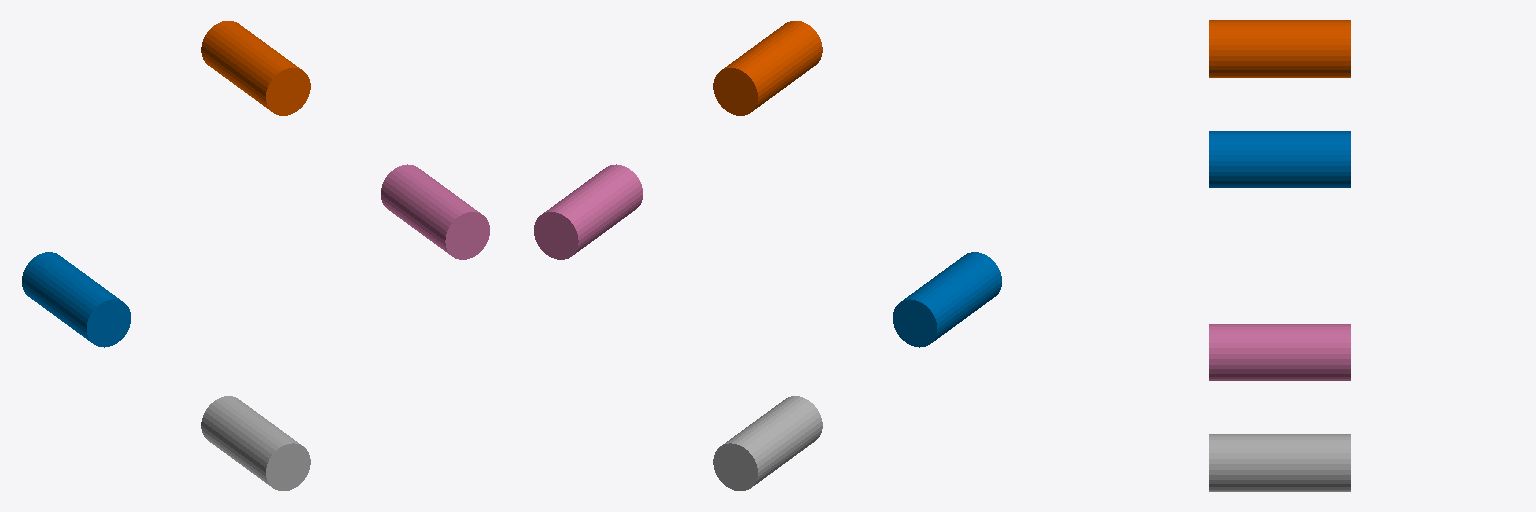
The robot description file, URDF, robot "ur5":
<?xml version="1.0" ?>
<!-- =================================================================================== -->
<!-- |    This document was autogenerated by xacro from ur.urdf.xacro                  | -->
<!-- |    EDITING THIS FILE BY HAND IS NOT RECOMMENDED                                 | -->
<!-- =================================================================================== -->
<robot name="ur5">
  <link name="base_link">
    <inertial>
      <mass value="0.0"/>
      <origin rpy="0 0 0" xyz="0 0 0"/>
      <inertia ixx="0.0" ixy="0.0" ixz="0.0" iyy="0.0" iyz="0.0" izz="0.0"/>
    </inertial>
  </link>
  <link name="base_link_inertia">
    <visual>
      <origin rpy="0 0 3.141592653589793" xyz="0 0 0"/>
      <geometry>
        <mesh filename="meshes/ur5/visual/base.obj"/>
      </geometry>
      <material name="LightGrey">
        <color rgba="0.7 0.7 0.7 0.7"/>
      </material>
    </visual>
    <collision>
      <origin rpy="0 0 3.141592653589793" xyz="0 0 0"/>
      <geometry>
        <mesh filename="meshes/ur5/collision/base.stl"/>
      </geometry>
    </collision>
    <inertial>
      <mass value="4.0"/>
      <origin rpy="0 0 0" xyz="0 0 0"/>
      <inertia ixx="0.00443333156" ixy="0.0" ixz="0.0" iyy="0.00443333156" iyz="0.0" izz="0.0072"/>
    </inertial>
  </link>
  <link name="shoulder_link">
    <visual>
      <origin rpy="0 0 3.141592653589793" xyz="0 0 0"/>
      <geometry>
        <mesh filename="meshes/ur5/visual/shoulder.obj"/>
      </geometry>
      <material name="LightBlue">
        <color rgba="0.7 0.7 0.8 0.7"/>
      </material>
    </visual>
    <collision>
      <origin rpy="0 0 3.141592653589793" xyz="0 0 0"/>
      <geometry>
        <mesh filename="meshes/ur5/collision/shoulder.stl"/>
      </geometry>
    </collision>
    <inertial>
      <mass value="3.7"/>
      <origin rpy="0 0 0" xyz="0 0 0"/>
      <inertia ixx="0.014972352344389999" ixy="0.0" ixz="0.0" iyy="0.014972352344389999" iyz="0.0" izz="0.01040625"/>
    </inertial>
  </link>
  <link name="upper_arm_link">
    <visual>
      <origin rpy="1.5707963267948966 0 -1.5707963267948966" xyz="0 0 0.13585"/>
      <geometry>
        <mesh filename="meshes/ur5/visual/upperarm.obj"/>
      </geometry>
      <material name="LightGreen">
        <color rgba="0.7 0.8 0.7 0.7"/>
      </material>
    </visual>
    <collision>
      <origin rpy="1.5707963267948966 0 -1.5707963267948966" xyz="0 0 0.13585"/>
      <geometry>
        <mesh filename="meshes/ur5/collision/upperarm.stl"/>
      </geometry>
    </collision>
    <inertial>
      <mass value="8.393"/>
      <origin rpy="0 1.5707963267948966 0" xyz="-0.2125 0.0 0.136"/>
      <inertia ixx="0.1338857818623325" ixy="0.0" ixz="0.0" iyy="0.1338857818623325" iyz="0.0" izz="0.0151074"/>
    </inertial>
  </link>
  <link name="forearm_link">
    <visual>
      <origin rpy="1.5707963267948966 0 -1.5707963267948966" xyz="0 0 0.0165"/>
      <geometry>
        <mesh filename="meshes/ur5/visual/forearm.obj"/>
      </geometry>
      <material name="LightRed">
        <color rgba="0.8 0.7 0.7 0.7"/>
      </material>
    </visual>
    <collision>
      <origin rpy="1.5707963267948966 0 -1.5707963267948966" xyz="0 0 0.0165"/>
      <geometry>
        <mesh filename="meshes/ur5/collision/forearm.stl"/>
      </geometry>
    </collision>
    <inertial>
      <mass value="2.275"/>
      <origin rpy="0 1.5707963267948966 0" xyz="-0.196125 0.0 0.0165"/>
      <inertia ixx="0.03121679102890359" ixy="0.0" ixz="0.0" iyy="0.03121679102890359" iyz="0.0" izz="0.004095"/>
    </inertial>
  </link>
  <link name="wrist_1_link">
    <visual>
      <origin rpy="1.5707963267948966 0 0" xyz="0 0 -0.093"/>
      <geometry>
        <mesh filename="meshes/ur5/visual/wrist1.obj"/>
      </geometry>
      <material name="LightGrey">
        <color rgba="0.7 0.7 0.7 0.7"/>
      </material>
    </visual>
    <collision>
      <origin rpy="1.5707963267948966 0 0" xyz="0 0 -0.093"/>
      <geometry>
        <mesh filename="meshes/ur5/collision/wrist1.stl"/>
      </geometry>
    </collision>
    <inertial>
      <mass value="1.219"/>
      <origin rpy="0 0 0" xyz="0 0 0"/>
      <inertia ixx="0.0020138887777775" ixy="0.0" ixz="0.0" iyy="0.0020138887777775" iyz="0.0" izz="0.0021942"/>
    </inertial>
  </link>
  <link name="wrist_2_link">
    <visual>
      <origin rpy="0 0 0" xyz="0 0 -0.095"/>
      <geometry>
        <mesh filename="meshes/ur5/visual/wrist2.obj"/>
      </geometry>
      <material name="LightBlue">
        <color rgba="0.7 0.7 0.8 0.7"/>
      </material>
    </visual>
    <collision>
      <origin rpy="0 0 0" xyz="0 0 -0.095"/>
      <geometry>
        <mesh filename="meshes/ur5/collision/wrist2.stl"/>
      </geometry>
    </collision>
    <inertial>
      <mass value="1.219"/>
      <origin rpy="0 0 0" xyz="0 0 0"/>
      <inertia ixx="0.0018310388509175" ixy="0.0" ixz="0.0" iyy="0.0018310388509175" iyz="0.0" izz="0.0021942"/>
    </inertial>
  </link>
  <link name="wrist_3_link">   <!--Solve iK for this link.-->
    <visual>
      <origin rpy="1.5707963267948966 0 0" xyz="0 0 -0.0818"/>
      <geometry>
        <mesh filename="meshes/ur5/visual/wrist3.obj"/>
      </geometry>
      <material name="LightGreen">
        <color rgba="0.7 0.8 0.7 0.7"/>
      </material>
    </visual>
    <collision>
      <origin rpy="1.5707963267948966 0 0" xyz="0 0 -0.0818"/>
      <geometry>
        <mesh filename="meshes/ur5/collision/wrist3.stl"/>
      </geometry>
    </collision>
    <inertial>
      <mass value="0.1879"/>
      <origin rpy="0 0 0" xyz="0.0 0.0 -0.01525"/>
      <inertia ixx="8.062472608343e-05" ixy="0.0" ixz="0.0" iyy="8.062472608343e-05" iyz="0.0" izz="0.0001321171875"/>
    </inertial>
  </link>
  <!--Suction Gripper-->
  <material name="DarkGrey">
    <color rgba="0.2 0.2 0.2 1.0"/>
  </material>
  <link name="suctionBaseLink">
    <contact>
      <lateral_friction value="1.0"/>
      <rolling_friction value="0.0001"/>
      <inertia_scaling value="3.0"/>
    </contact>
    <inertial>
      <origin rpy="0 0 0" xyz="0 0 0"/>
       <mass value=".1"/>
       <inertia ixx="1" ixy="0" ixz="0" iyy="1" iyz="0" izz="1"/>
    </inertial>
    <visual>
      <origin rpy="0 0 0" xyz="0 0 0"/>
      <geometry>
        <mesh filename="suction/base.obj" scale="0.001 0.001 0.001"/>
      </geometry>
      <material name="DarkGrey"/>
    </visual>
    <collision>
      <origin rpy="0 0 0" xyz="0 0 0"/>
      <geometry>
        <mesh filename="suction/base.obj" scale="0.001 0.001 0.001"/>
      </geometry>
    </collision>
  </link>
  <link name="midLink">
    <contact>
      <lateral_friction value="1.0"/>
      <rolling_friction value="0.0001"/>
      <inertia_scaling value="3.0"/>
    </contact>
    <inertial>
      <origin rpy="0 0 0" xyz="0 0 0"/>
       <mass value=".1"/>
       <inertia ixx="1" ixy="0" ixz="0" iyy="1" iyz="0" izz="1"/>
    </inertial>
    <visual>
      <origin rpy="0 0 0" xyz="0 0 0"/>
      <geometry>
        <mesh filename="suction/mid.obj" scale="0.001 0.001 0.001"/>
      </geometry>
      <material name="DarkGrey"/>
    </visual>
    <collision>
      <origin rpy="0 0 0" xyz="0 0 0"/>
      <geometry>
        <mesh filename="suction/mid.obj" scale="0.001 0.001 0.001"/>
      </geometry>
    </collision>
  </link>
  <link name="headLink">
    <contact>
      <lateral_friction value="1.0"/>
      <rolling_friction value="0.0001"/>
      <inertia_scaling value="3.0"/>
    </contact>
    <inertial>
      <origin rpy="0 0 0" xyz="0 0 0"/>
       <mass value=".1"/>
       <inertia ixx="1" ixy="0" ixz="0" iyy="1" iyz="0" izz="1"/>
    </inertial>
    <visual>
      <origin rpy="0 0 0" xyz="0 0 0"/>
      <geometry>
        <mesh filename="suction/head.obj" scale="0.001 0.001 0.001"/>
      </geometry>
      <material name="darkgrey">
        <color rgba="0.2 0.2 0.2 1"/>
      </material>
    </visual>
    <collision>
      <origin rpy="0 0 0" xyz="0 0 0"/>
      <geometry>
        <mesh filename="suction/head.obj" scale="0.001 0.001 0.001"/>
      </geometry>
    </collision>
  </link>
  <link name="tipLink">
    <contact>
      <lateral_friction value="1.0"/>
      <rolling_friction value="0.0001"/>
      <inertia_scaling value="3.0"/>
      <restitution value="0.2"/>
    </contact>
    <inertial>
      <origin rpy="0 0 0" xyz="0 0 0"/>
       <mass value=".1"/>
       <inertia ixx="1" ixy="0" ixz="0" iyy="1" iyz="0" izz="1"/>
    </inertial>
    <visual>
      <origin rpy="0 0 0" xyz="0 0 0"/>
      <geometry>
        <mesh filename="suction/tip.obj" scale="0.001 0.001 0.001"/>
      </geometry>
      <material name="blue">
        <color rgba="0.18039216, 0.50588235, 0.77254902 1"/>
      </material>
    </visual>
    <!-- <collision>
      <origin rpy="0 0 0" xyz="0 0 0"/>
      <geometry>
        <mesh filename="suction/tip.obj" scale="0.001 0.001 0.001"/>
      </geometry>
    </collision> -->
  </link>
  <link name="tipCollision1">
    <contact>
      <lateral_friction value="1.0"/>
      <rolling_friction value="0.0001"/>
      <inertia_scaling value="3.0"/>
      <restitution value="0.2"/>
    </contact>
    <inertial>
      <origin rpy="0 0 0" xyz="0 0 0"/>
        <mass value=".0001"/>
        <inertia ixx="0.0001" ixy="0" ixz="0" iyy="0.0001" iyz="0" izz="0.0001"/>
    </inertial>
    <visual>
      <origin rpy="0 0 0" xyz="0 0 0"/>
      <geometry>
        <cylinder length="0.005" radius="0.001"/>
      </geometry>      
      <material name="blue">
        <color rgba="0.18039216, 0.50588235, 0.77254902 1"/>
      </material>
    </visual>
    <collision>
      <origin rpy="0 0 0" xyz="0 0 0"/>
      <geometry>
        <cylinder length="0.005" radius="0.001"/>
      </geometry>
    </collision>
  </link>
  <link name="tipCollision3">
    <contact>
      <lateral_friction value="1.0"/>
      <rolling_friction value="0.0001"/>
      <inertia_scaling value="3.0"/>
      <restitution value="0.2"/>
    </contact>
    <inertial>
      <origin rpy="0 0 0" xyz="0 0 0"/>
        <mass value=".0001"/>
        <inertia ixx="0.0001" ixy="0" ixz="0" iyy="0.0001" iyz="0" izz="0.0001"/>
    </inertial>
    <visual>
      <origin rpy="0 0 0" xyz="0 0 0"/>
      <geometry>
        <cylinder length="0.005" radius="0.001"/>
      </geometry>
      <material name="blue">
        <color rgba="0.18039216, 0.50588235, 0.77254902 1"/>
      </material>
    </visual>
    <collision>
      <origin rpy="0 0 0" xyz="0 0 0"/>
      <geometry>
        <cylinder length="0.005" radius="0.001"/>
      </geometry>
    </collision>
  </link>
  <link name="tipCollision5">
    <contact>
      <lateral_friction value="1.0"/>
      <rolling_friction value="0.0001"/>
      <inertia_scaling value="3.0"/>
      <restitution value="0.2"/>
    </contact>
    <inertial>
      <origin rpy="0 0 0" xyz="0 0 0"/>
        <mass value=".0001"/>
        <inertia ixx="0.0001" ixy="0" ixz="0" iyy="0.0001" iyz="0" izz="0.0001"/>
    </inertial>
    <visual>
      <origin rpy="0 0 0" xyz="0 0 0"/>
      <geometry>
        <cylinder length="0.005" radius="0.001"/>
      </geometry>
      <material name="blue">
        <color rgba="0.18039216, 0.50588235, 0.77254902 1"/>
      </material>
    </visual>
    <collision>
      <origin rpy="0 0 0" xyz="0 0 0"/>
      <geometry>
        <cylinder length="0.005" radius="0.001"/>
      </geometry>
    </collision>
  </link>
  <link name="tipCollision7">
    <contact>
      <lateral_friction value="1.0"/>
      <rolling_friction value="0.0001"/>
      <inertia_scaling value="3.0"/>
      <restitution value="0.2"/>
    </contact>
    <inertial>
      <origin rpy="0 0 0" xyz="0 0 0"/>
        <mass value=".0001"/>
        <inertia ixx="0.0001" ixy="0" ixz="0" iyy="0.0001" iyz="0" izz="0.0001"/>
    </inertial>
    <visual>
      <origin rpy="0 0 0" xyz="0 0 0"/>
      <geometry>
        <cylinder length="0.005" radius="0.001"/>
      </geometry>
      <material name="blue">
        <color rgba="0.18039216, 0.50588235, 0.77254902 1"/>
      </material>
    </visual>
    <collision>
      <origin rpy="0 0 0" xyz="0 0 0"/>
      <geometry>
        <cylinder length="0.005" radius="0.001"/>
      </geometry>
    </collision>
  </link>
  <!-- joints - main serial chain -->
  <joint name="base_link-base_link_inertia" type="fixed">     <!--Joint 0-->
    <parent link="base_link"/>
    <child link="base_link_inertia"/>
    <!-- 'base_link' is REP-103 aligned (so X+ forward), while the internal
           frames of the robot/controller have X+ pointing backwards.
           Use the joint between 'base_link' and 'base_link_inertia' (a dummy
           link/frame) to introduce the necessary rotation over Z (of pi rad).
      -->
    <origin rpy="0 0 3.141592653589793" xyz="0 0 0"/>
  </joint>
  <joint name="shoulder_pan_joint" type="revolute">           <!--Joint 1-->
    <parent link="base_link_inertia"/>
    <child link="shoulder_link"/>
    <origin rpy="0 0 0" xyz="0 0 0.089159"/>
    <axis xyz="0 0 1"/>
    <limit effort="150.0" lower="-6.283185307179586" upper="6.283185307179586" velocity="3.141592653589793"/>
    <dynamics damping="0" friction="0"/>
  </joint>
  <joint name="shoulder_lift_joint" type="revolute">          <!--Joint 2-->
    <parent link="shoulder_link"/>
    <child link="upper_arm_link"/>
    <origin rpy="1.570796327 0 0" xyz="0 0 0"/>
    <axis xyz="0 0 1"/>
    <limit effort="150.0" lower="-6.283185307179586" upper="6.283185307179586" velocity="3.141592653589793"/>
    <dynamics damping="0" friction="0"/>
  </joint>
  <joint name="elbow_joint" type="revolute">                  <!--Joint 3-->
    <parent link="upper_arm_link"/>
    <child link="forearm_link"/>
    <origin rpy="0 0 0" xyz="-0.425 0 0"/>
    <axis xyz="0 0 1"/>
    <limit effort="150.0" lower="-3.141592653589793" upper="3.141592653589793" velocity="3.141592653589793"/>
    <dynamics damping="0" friction="0"/>
  </joint>
  <joint name="wrist_1_joint" type="revolute">                <!--Joint 4-->
    <parent link="forearm_link"/>
    <child link="wrist_1_link"/>
    <origin rpy="0 0 0" xyz="-0.39225 0 0.10915"/>
    <axis xyz="0 0 1"/>
    <limit effort="28.0" lower="-6.283185307179586" upper="6.283185307179586" velocity="3.141592653589793"/>
    <dynamics damping="0" friction="0"/>
  </joint>
  <joint name="wrist_2_joint" type="revolute">                <!--Joint 5-->
    <parent link="wrist_1_link"/>
    <child link="wrist_2_link"/>
    <origin rpy="1.570796327 0 0" xyz="0 -0.09465 -1.941303950897609e-11"/>
    <axis xyz="0 0 1"/>
    <limit effort="28.0" lower="-6.283185307179586" upper="6.283185307179586" velocity="3.141592653589793"/>
    <dynamics damping="0" friction="0"/>
  </joint>
  <joint name="wrist_3_joint" type="revolute">                <!--Joint 6, solve IK for this joint.--> 
    <parent link="wrist_2_link"/>
    <child link="wrist_3_link"/>
    <origin rpy="1.570796326589793 3.141592653589793 3.141592653589793" xyz="0 0.0823 -1.688001216681175e-11"/>
    <axis xyz="0 0 1"/>
    <limit effort="28.0" lower="-6.283185307179586" upper="6.283185307179586" velocity="3.141592653589793"/>
    <dynamics damping="0" friction="0"/>
  </joint>
  <!-- Gripper joints -->
  <joint name="ee_fixed_joint" type="fixed">                  <!--Joint 7-->
    <parent link="wrist_3_link"/>
    <child link="suctionBaseLink"/>
    <origin rpy="0.0 0.0 -1.5707963267948966" xyz="0.0 0.0 -0.01"/> 
  </joint>
  <joint name="baseLink-midLink" type="fixed">                <!--Joint 8-->
    <origin rpy="0 0 0" xyz="0 0 0.025"/>
    <parent link="suctionBaseLink"/>
    <child link="midLink"/>
  </joint>
  <joint name="headJoint" type="fixed">                       <!--Joint 9-->
    <origin rpy="0 0 0" xyz="0 0 0.08"/>
    <parent link="wrist_3_link"/>
    <child link="headLink"/>
  </joint>
  <joint name="tipJoint" type="fixed">                        <!--Joint 10-->
    <parent link="headLink"/>
    <child link="tipLink"/>
    <origin rpy="0.0 0.0 0.0" xyz="0.0 0.0 0.029"/>
    <axis xyz="0 0 1"/>
    <limit effort="150.0" lower="-6.28318530718" upper="6.28318530718" velocity="3.15"/>
    <dynamics damping="10.0" friction="0.0"/>
  </joint>
  <joint name="tipCollision1Joint" type="fixed">                        <!--Joint 11-->
    <parent link="tipLink"/>
    <child link="tipCollision1"/>
    <origin rpy="0.0 0.0 0.0" xyz="0.008 0.0 0.012"/>
    <axis xyz="0 0 1"/>
  </joint>
  <joint name="tipCollision3Joint" type="fixed">                        <!--Joint 13-->
    <parent link="tipLink"/>
    <child link="tipCollision3"/>
    <origin rpy="0.0 0.0 0.0" xyz="0.0 0.008 0.012"/>
    <axis xyz="0 0 1"/>
  </joint>
  <joint name="tipCollision5Joint" type="fixed">                        <!--Joint 15-->
    <parent link="tipLink"/>
    <child link="tipCollision5"/>
    <origin rpy="0.0 0.0 0.0" xyz="-0.008 0.0 0.012"/>
    <axis xyz="0 0 1"/>
  </joint>
  <joint name="tipCollision7Joint" type="fixed">                        <!--Joint 17-->
    <parent link="tipLink"/>
    <child link="tipCollision7"/>
    <origin rpy="0.0 0.0 0.0" xyz="0.0 -0.008 0.012"/>
    <axis xyz="0 0 1"/>
  </joint>
</robot>

--- Facts derived from the render (not from the file) ---
Views: 3 orthographic renders of the robot side by side, from view 1: azimuth 30°, elevation 25°; view 2: azimuth 150°, elevation 25°; view 3: azimuth 270°, elevation 25°.
Model ur5 with 16 links and 15 joints (6 revolute, 9 fixed), rooted at base_link, posed every joint at zero.
Visible links, largest first — view 1: tipCollision1, tipCollision5, tipCollision7, tipCollision3; view 2: tipCollision1, tipCollision5, tipCollision7, tipCollision3; view 3: tipCollision3, tipCollision7, tipCollision1, tipCollision5.
Link boxes in pixels (x1,y1,x2,y2): tipCollision1: [22, 252, 130, 347]; tipCollision5: [381, 164, 489, 259]; tipCollision7: [201, 396, 310, 490]; tipCollision3: [201, 21, 310, 115]; tipCollision1: [893, 252, 1001, 347]; tipCollision5: [534, 164, 642, 259]; tipCollision7: [713, 396, 822, 490]; tipCollision3: [713, 21, 822, 115]; tipCollision3: [1209, 20, 1350, 77]; tipCollision7: [1209, 434, 1350, 491]; tipCollision1: [1209, 131, 1350, 187]; tipCollision5: [1209, 324, 1350, 380].
Bounding box of the posed robot: 0.018 × 0.005 × 0.018 m (x, y, z).
0 mesh visuals loaded from 11 distinct referenced files (none loaded); not drawn: 11 (reference not matched to a file when rendering).